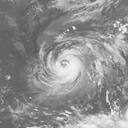cyclone: (43, 50, 88, 93)
